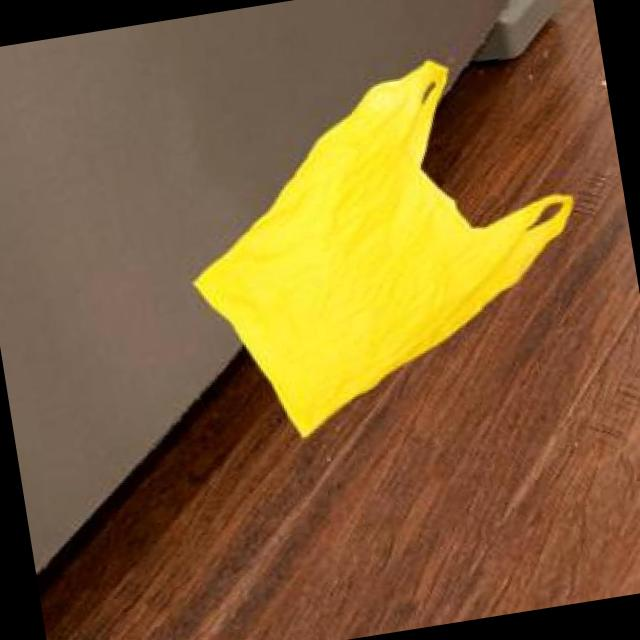KantongPlastik: (163, 38, 606, 454)
